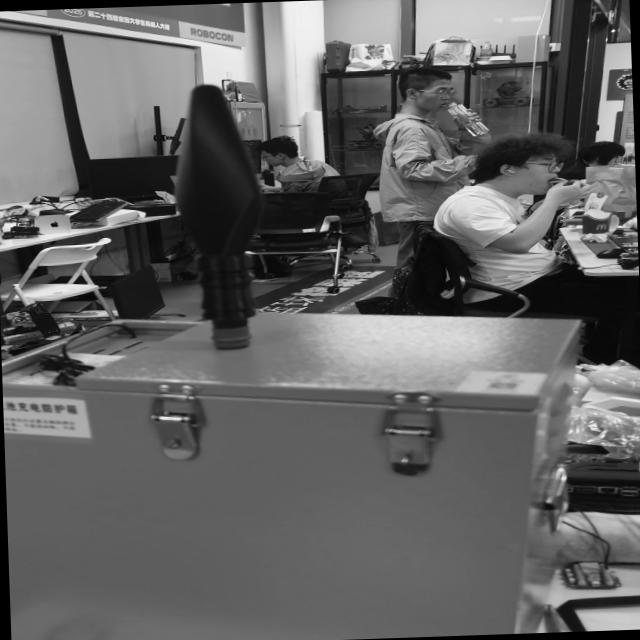base: (210, 324, 252, 348)
